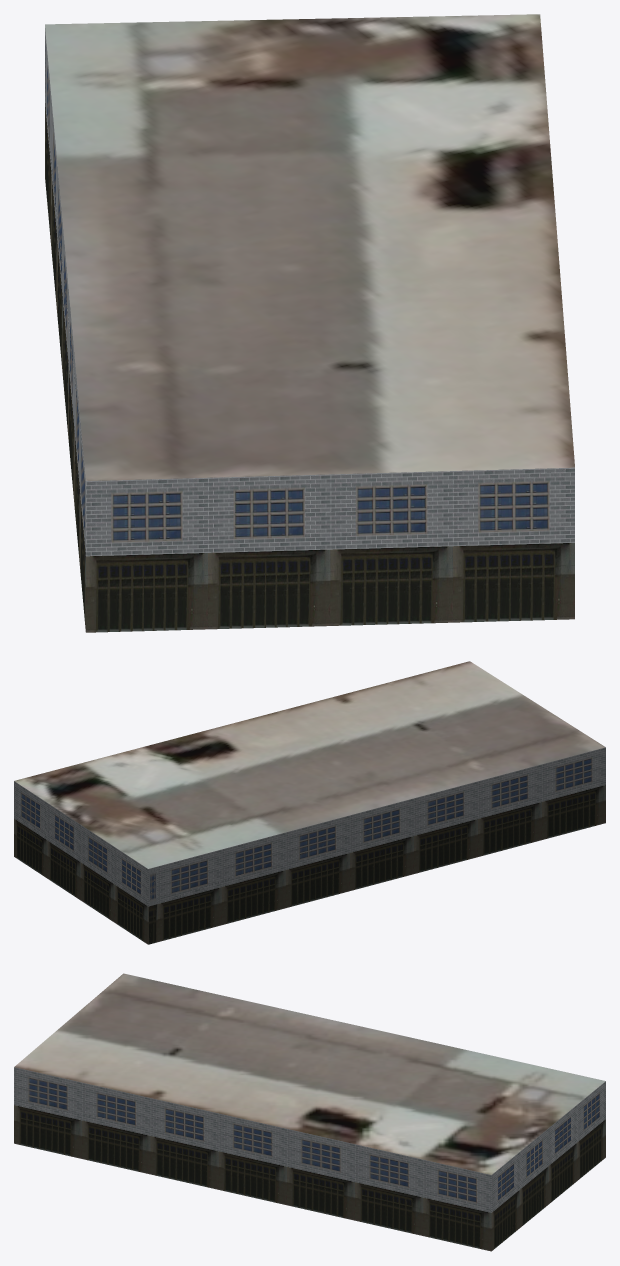
Rendered from T_1T2674NXR1.dae.
3 renders of one model, top to bottom at view 1: azimuth 30°, elevation 25°; view 2: azimuth 150°, elevation 25°; view 3: azimuth 270°, elevation 25°, orthographic. The views are drawn at different scales.
Visible parts, largest first — view 1: SketchUp (×5); view 2: SketchUp (×6); view 3: SketchUp (×5).
Boxes of the visible parts, x1,y1,x2,y2 form: SketchUp (×5): [45, 14, 574, 632]; SketchUp (×6): [14, 661, 605, 944]; SketchUp (×5): [14, 973, 605, 1251].
Bounding box in the file's own units: 36.98 × 45.88 × 6.54.
3 materials, 3 textured.
